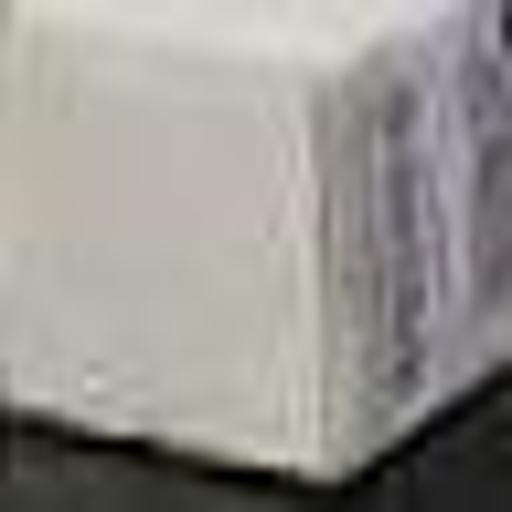Other: (0, 0, 511, 482)
